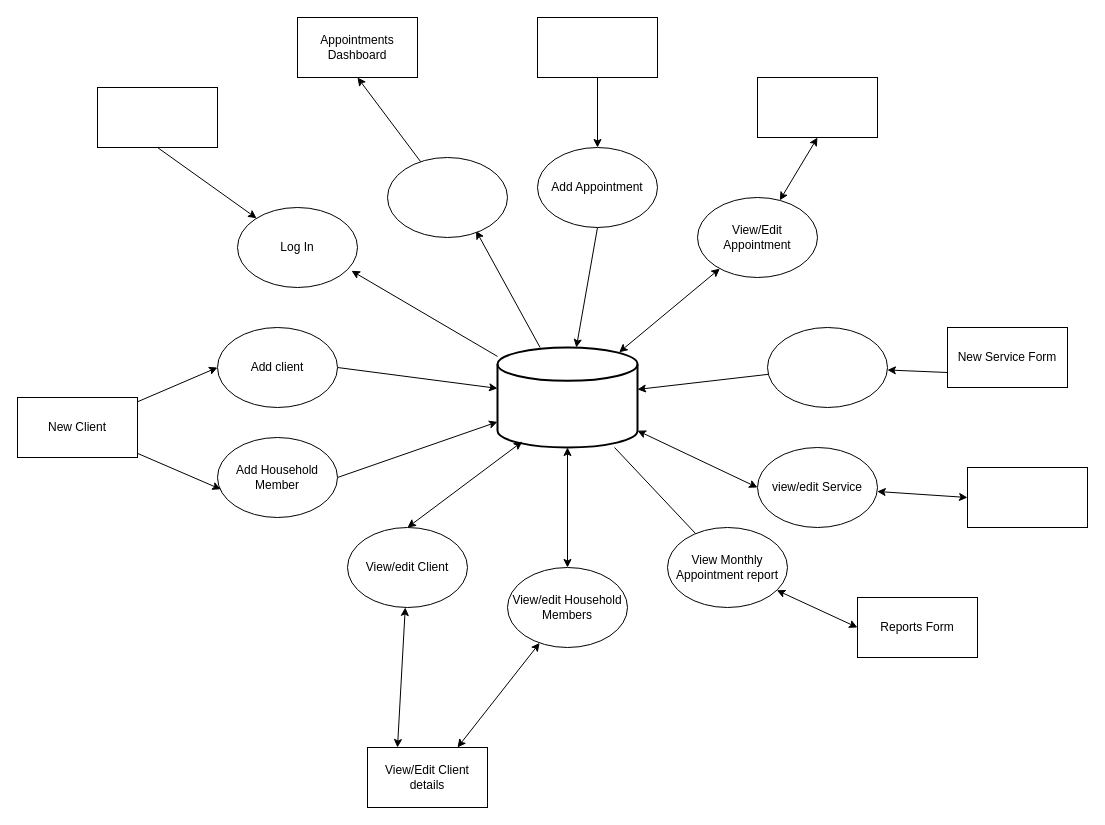
Image size: 1105x825. Some labels were removed from this diagram. Here are the shapes that lost their labels. From the top down, the centre of each, then its label:
At point (597, 47): "New Appointment Form".
At point (157, 117): "Log in Form".
At point (817, 107): "Appointment Details Form".
At point (447, 197): "View Appointments".
At point (827, 367): "Add Service".
At point (567, 397): "Database".
At point (1027, 497): "Service Details Form".
